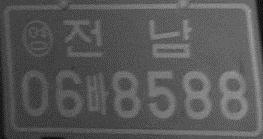0: (19, 69, 49, 117)
5: (145, 69, 176, 120)
6: (53, 67, 83, 119)
8: (217, 69, 249, 121), (181, 69, 213, 120), (110, 70, 142, 119)
바: (84, 70, 109, 116)
영: (20, 18, 54, 58)
전남_D: (61, 18, 194, 60)
